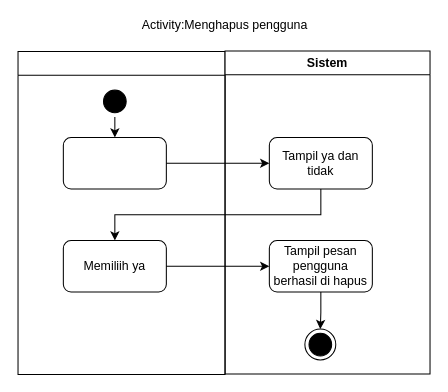
Image size: 448x392. Some labels were removed from this diagram. The shapes that lost their labels are listed below. From the top down, each one's box as (x1, y1, x2, y2) in pixels, then its label:
(62, 136, 166, 189): Memilih ikon hapus pengguna
(17, 50, 225, 374): Admin
